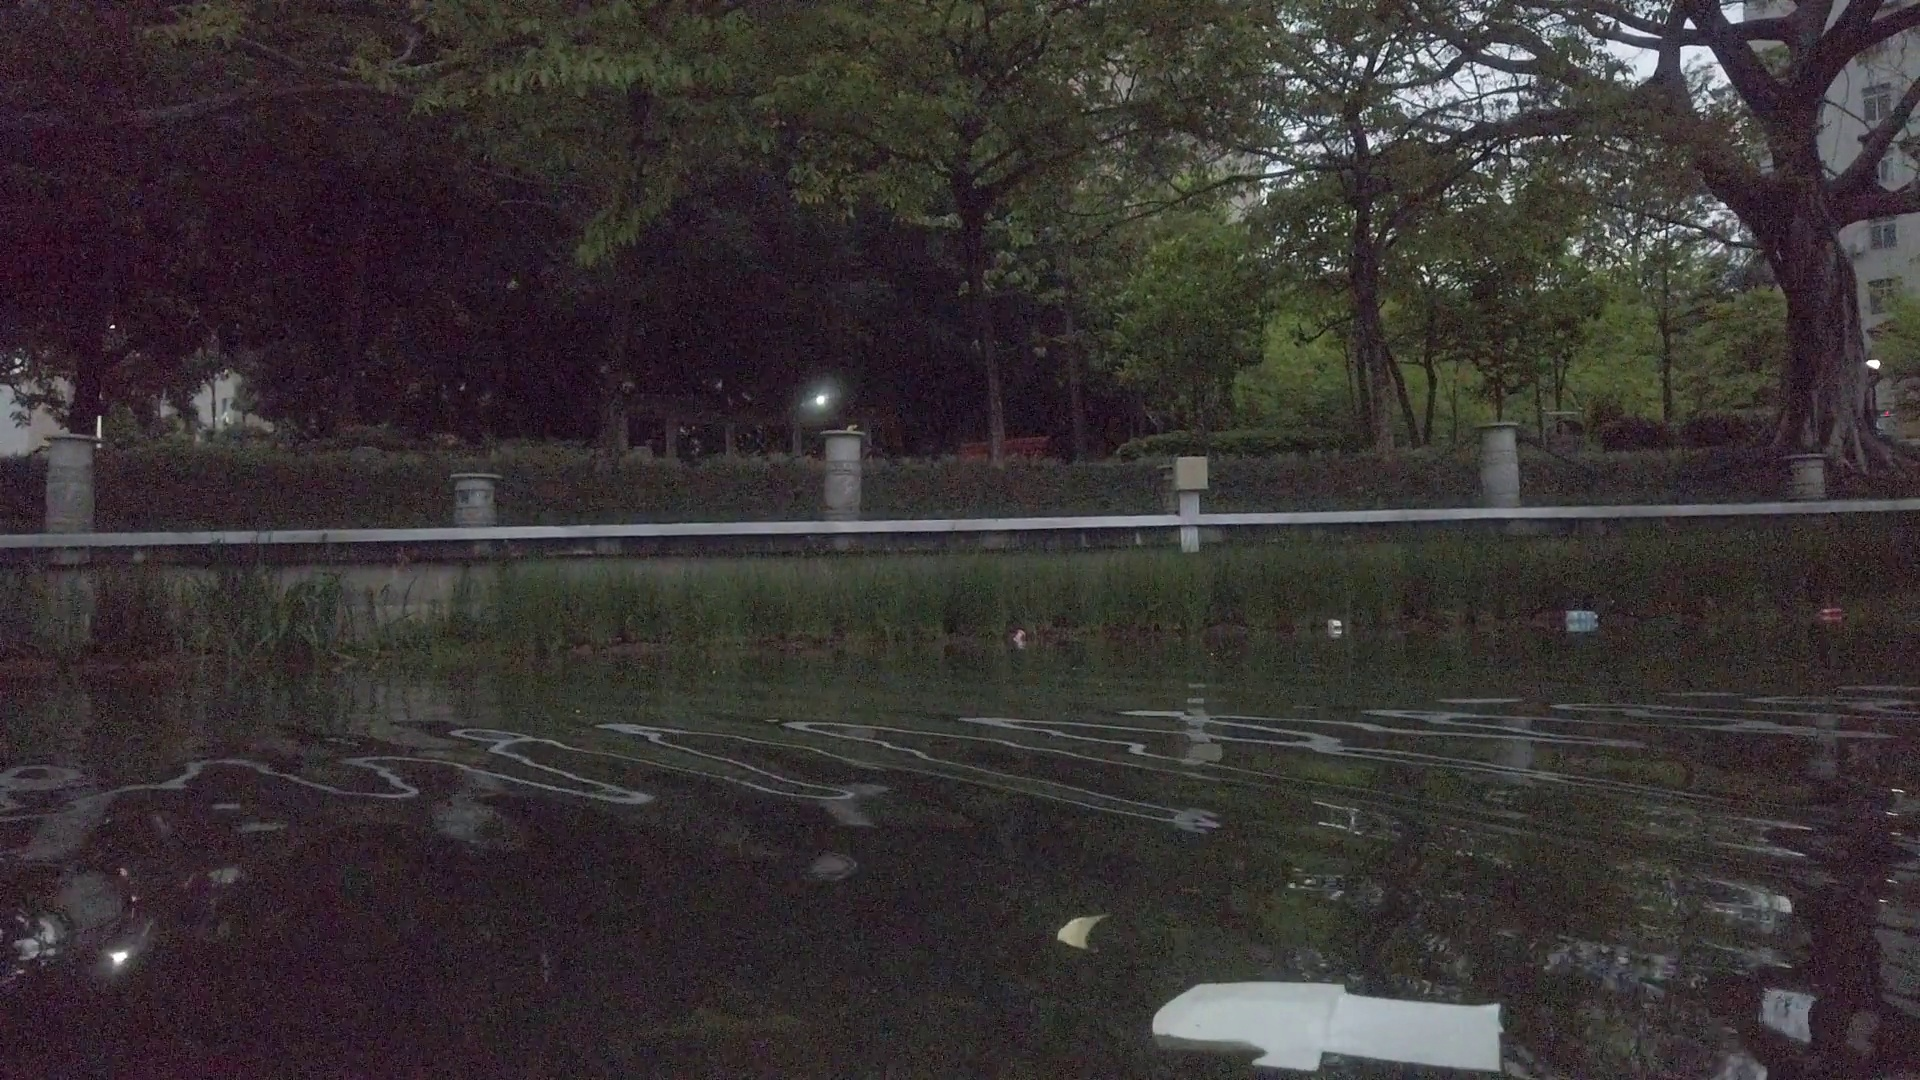bottle: (1567, 608, 1604, 622), (1006, 626, 1029, 644), (1821, 609, 1847, 622)
carton: (1325, 615, 1341, 633)
paper: (1149, 981, 1511, 1073)
